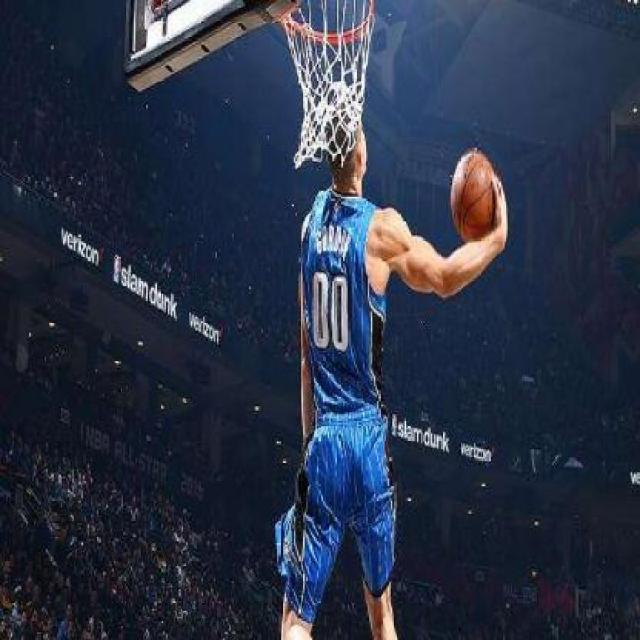basketball: (451, 154, 497, 242)
rim: (282, 0, 374, 166)
